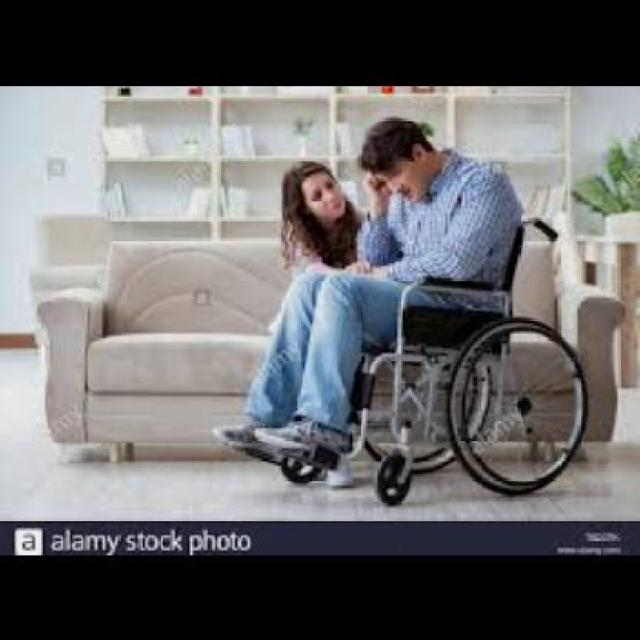wheelchairs: (242, 215, 591, 493)
